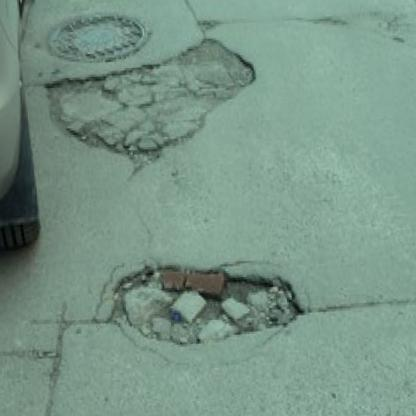pothole: (42, 36, 261, 162), (103, 254, 300, 355), (196, 17, 221, 32)
